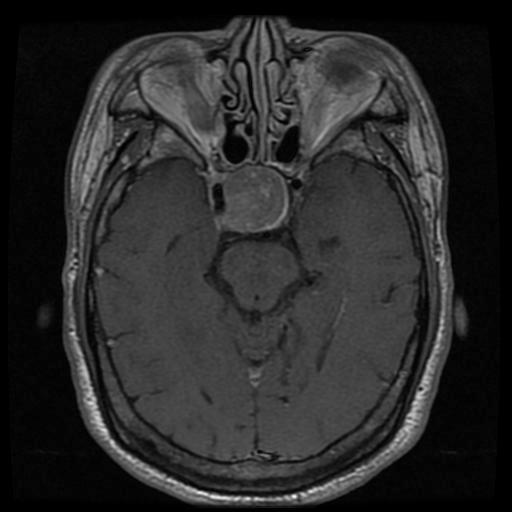Tumour-Pituitary: (208, 164, 299, 236)
